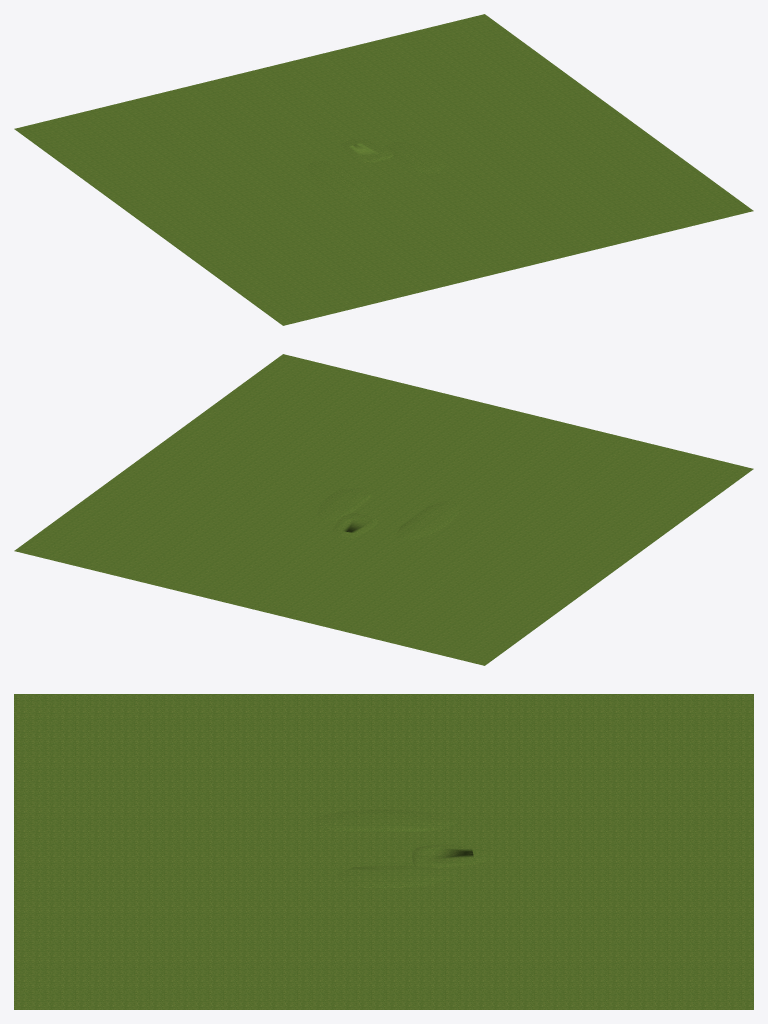
Rendered from Grass.glb.
3 views of the same model, one above another, from view 1: azimuth 30°, elevation 25°; view 2: azimuth 150°, elevation 25°; view 3: azimuth 270°, elevation 25° (orthographic). The views are drawn at different scales.
Visible parts, largest first — view 1: Grass; view 2: Grass; view 3: Grass.
Part boxes in pixels (x1,y1,x2,y2): Grass: (14,14,753,325); Grass: (14,354,753,665); Grass: (14,694,753,1009).
Bounding box in the file's own units: 505 × 1.06 × 500.
2 materials, 2 textured.
